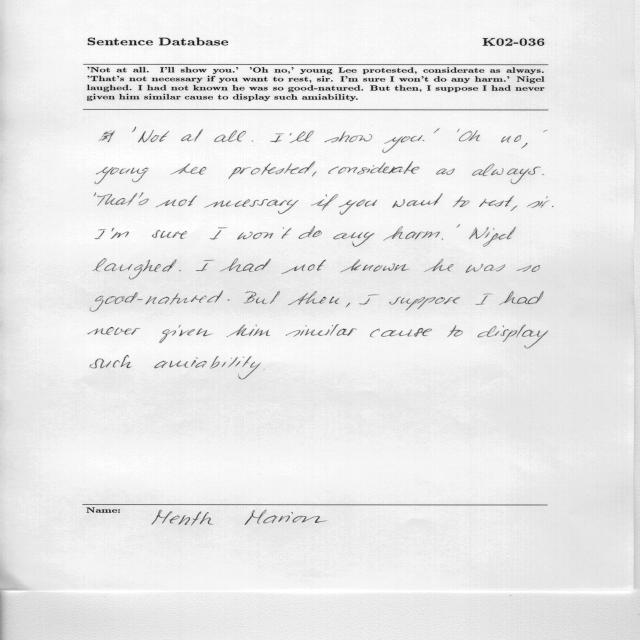word: (90, 291, 223, 312), (154, 356, 261, 380), (93, 259, 177, 280), (478, 325, 548, 349), (229, 162, 315, 179), (205, 199, 299, 214), (472, 164, 541, 184), (328, 162, 420, 175), (160, 325, 213, 343), (469, 227, 516, 247), (389, 297, 460, 310), (286, 324, 357, 337), (340, 260, 410, 273), (95, 167, 148, 184), (383, 226, 440, 241), (392, 193, 443, 208), (382, 135, 423, 153), (220, 258, 271, 272), (288, 291, 339, 305), (237, 227, 291, 240), (282, 259, 327, 274), (333, 232, 375, 247), (499, 291, 544, 305), (339, 199, 377, 215), (325, 131, 373, 143), (227, 324, 270, 337), (370, 328, 432, 337), (132, 127, 169, 142), (90, 356, 131, 369), (98, 193, 138, 206), (244, 291, 280, 304), (311, 194, 338, 211), (156, 196, 197, 207), (170, 163, 206, 175), (88, 327, 140, 335), (424, 259, 454, 272), (479, 196, 514, 207), (214, 130, 246, 142), (466, 264, 506, 273), (152, 230, 187, 239), (298, 226, 322, 239), (290, 131, 314, 143), (527, 196, 550, 208), (181, 129, 203, 141), (459, 131, 480, 142), (359, 294, 379, 305), (210, 228, 227, 240), (111, 228, 129, 239), (196, 260, 214, 271), (475, 294, 492, 305), (453, 196, 469, 207), (447, 326, 463, 337), (501, 135, 522, 143), (517, 265, 541, 272), (100, 131, 115, 142), (436, 168, 455, 175), (139, 193, 149, 206), (270, 134, 284, 143), (95, 229, 106, 239), (511, 206, 518, 212), (522, 143, 528, 149), (433, 128, 440, 133), (312, 171, 317, 177), (457, 224, 461, 228), (346, 303, 350, 307), (252, 141, 255, 146), (457, 129, 460, 132), (544, 130, 548, 132), (94, 192, 96, 196), (227, 299, 230, 301), (179, 270, 182, 271), (423, 140, 425, 141), (543, 174, 545, 175), (552, 206, 554, 207), (442, 238, 443, 240), (243, 357, 244, 358)
